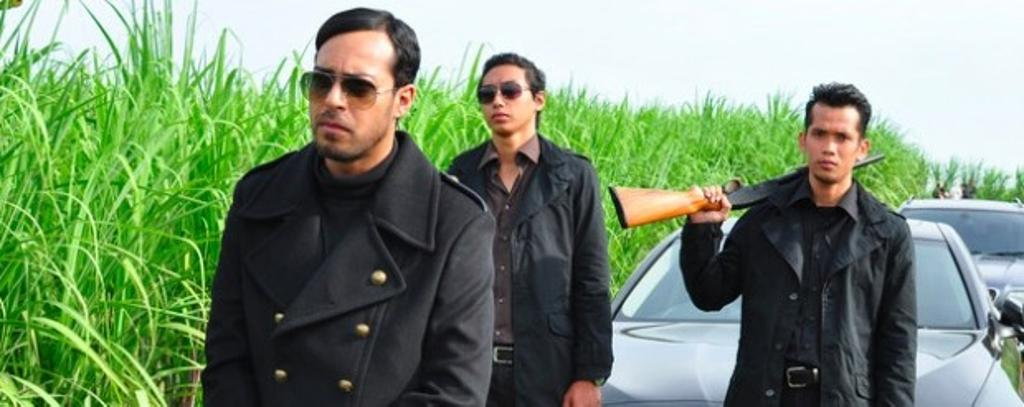face: (308, 43, 393, 154), (806, 107, 859, 181), (480, 67, 533, 133)
